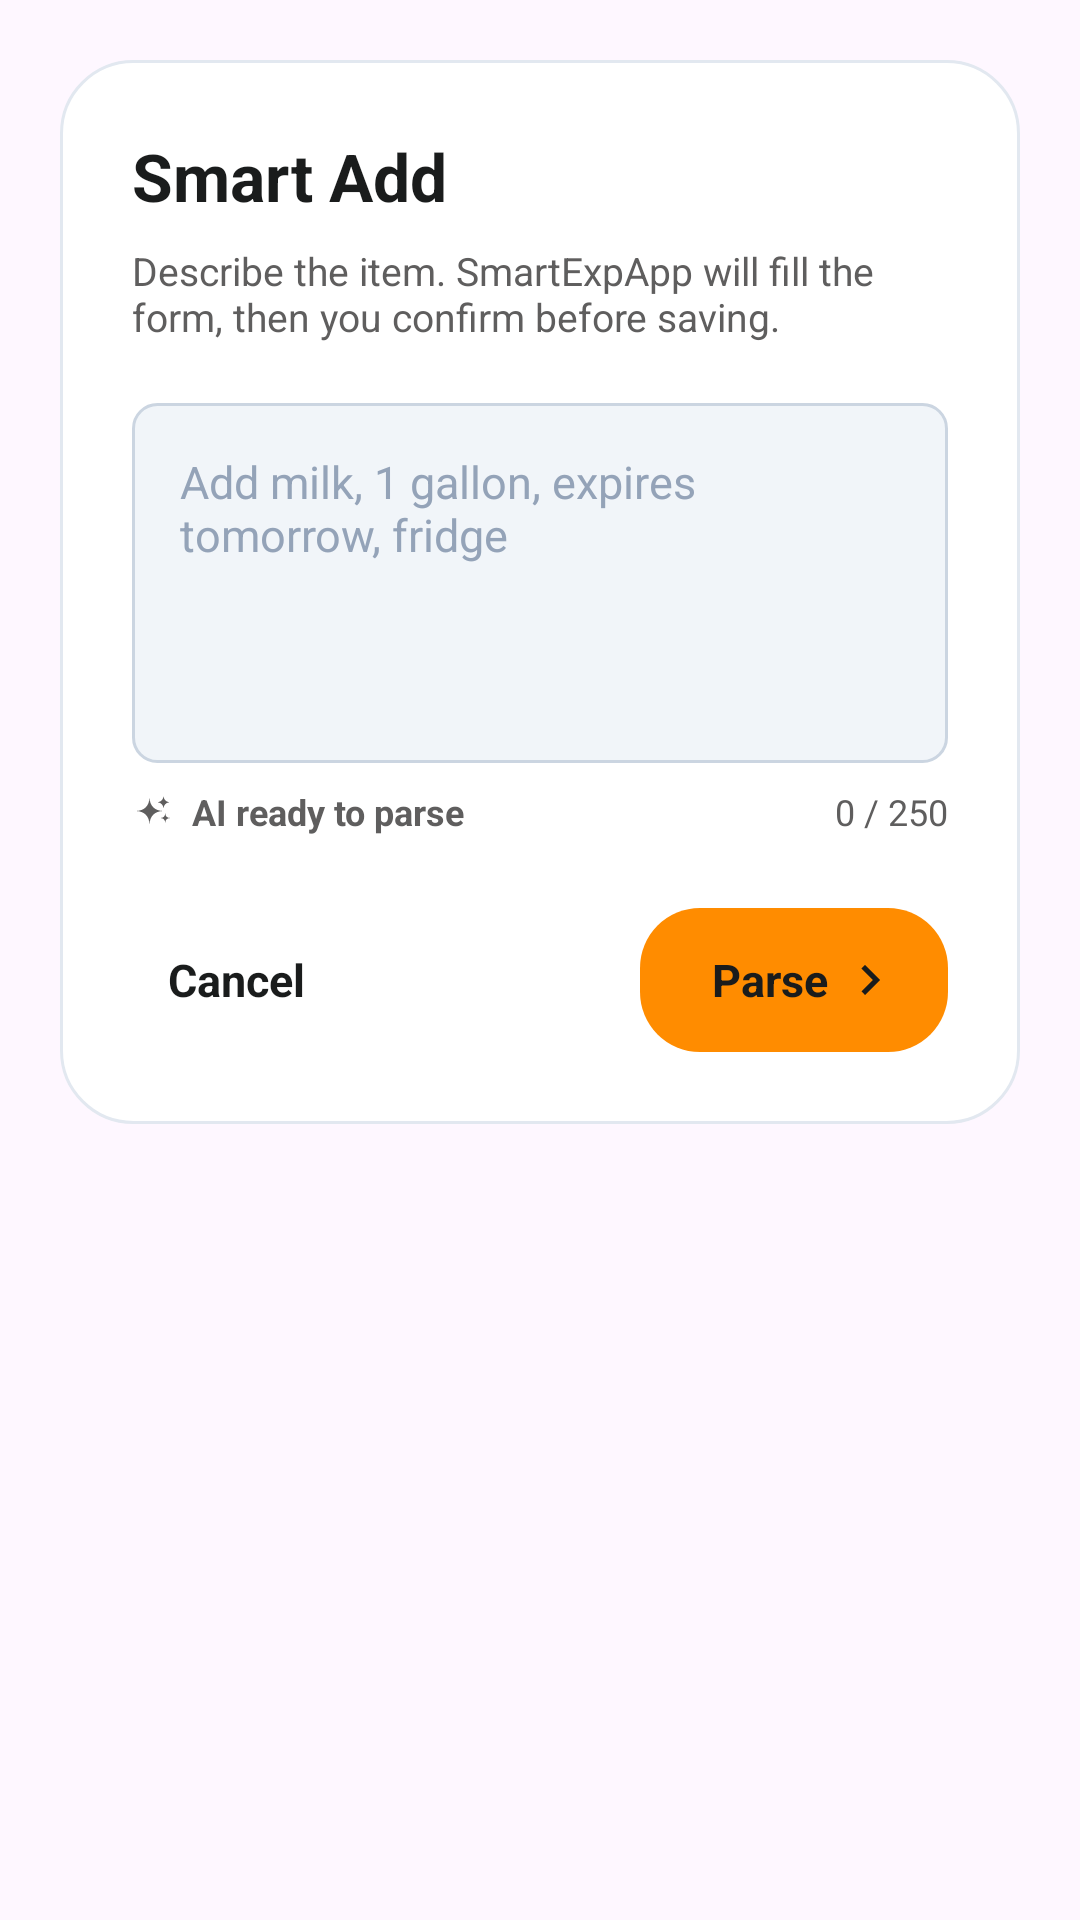

Screen size 1080×1920. Icon name, then its center in pixels as (x,y):
ai sparkles: (153,810)
chevron right: (870,980)
